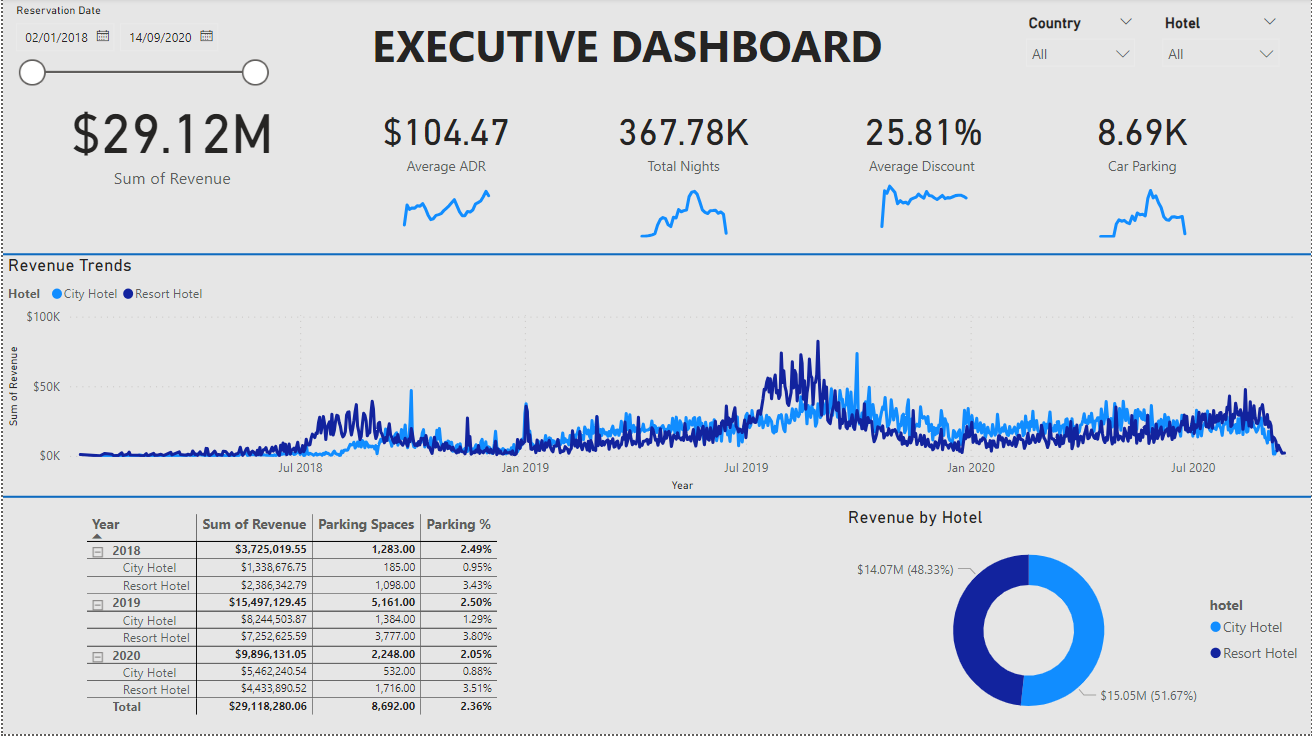

Layout of this report page (visuals, bound fields, positions):
{"tool":"powerbi","page":{"name":"Page 1","canvas":[1280,720],"ordinal":0},"visuals":[{"type":"shape","box":[0,0,1279.9,720],"z":0},{"type":"shape","box":[0,229.8,1279.9,41.6],"z":1000},{"type":"shape","box":[0,467,1279.9,41.6],"z":2000},{"type":"card","fields":{"Values":["Sum(Hotel_Data.Revenue)"]},"box":[39.1,62.3,253,149.1],"z":3000},{"type":"card","fields":{"Values":["Avg(Hotel_Data.adr)"]},"box":[309.3,62.3,248.1,149.1],"z":4000},{"type":"card","fields":{"Values":["Hotel_Data.Total Nights"]},"box":[541.5,62.3,248.1,149.1],"z":5000},{"type":"card","fields":{"Values":["Avg(Hotel_Data.Discount)"]},"box":[776.2,62.3,248.1,149.1],"z":6000},{"type":"lineChart","title":"Revenue Trends","fields":{"Y":["Sum(Hotel_Data.Revenue)"],"Category":["Hotel_Data.reservation_status_date.Variation.Date Hierarchy.Year","Hotel_Data.reservation_status_date.Variation.Date Hierarchy.Quarter","Hotel_Data.reservation_status_date.Variation.Date Hierarchy.Month","Hotel_Data.reservation_status_date.Variation.Date Hierarchy.Day"],"Series":["Hotel_Data.hotel"]},"box":[0,250.6,1279.9,237.1],"z":7000},{"type":"slicer","fields":{"Values":["Hotel_Data.country"]},"box":[990.2,11,127.1,79.5],"z":8000},{"type":"slicer","fields":{"Values":["Hotel_Data.hotel"]},"box":[1123.4,11,134.5,79.5],"z":9000},{"type":"lineChart","fields":{"Category":["Hotel_Data.reservation_status_date.Variation.Date Hierarchy.Year","Hotel_Data.reservation_status_date.Variation.Date Hierarchy.Quarter","Hotel_Data.reservation_status_date.Variation.Date Hierarchy.Month","Hotel_Data.reservation_status_date.Variation.Date Hierarchy.Day"],"Y":["Avg(Hotel_Data.adr)"]},"box":[377.7,166.2,112.5,73.3],"z":10000},{"type":"lineChart","fields":{"Category":["Hotel_Data.reservation_status_date.Variation.Date Hierarchy.Year","Hotel_Data.reservation_status_date.Variation.Date Hierarchy.Quarter","Hotel_Data.reservation_status_date.Variation.Date Hierarchy.Month","Hotel_Data.reservation_status_date.Variation.Date Hierarchy.Day"],"Y":["Hotel_Data.Total Nights"]},"box":[610,166.2,112.5,73.3],"z":11000},{"type":"lineChart","fields":{"Y":["Avg(Hotel_Data.Discount)"],"Category":["Hotel_Data.reservation_status_date.Variation.Date Hierarchy.Year","Hotel_Data.reservation_status_date.Variation.Date Hierarchy.Month","Hotel_Data.reservation_status_date.Variation.Date Hierarchy.Day"]},"box":[844.7,166.2,112.5,73.3],"z":12000},{"type":"card","fields":{"Values":["Sum(Hotel_Data.required_car_parking_spaces)"]},"box":[990.2,62.3,248.1,149.1],"z":13000},{"type":"lineChart","fields":{"Category":["Hotel_Data.reservation_status_date.Variation.Date Hierarchy.Year","Hotel_Data.reservation_status_date.Variation.Date Hierarchy.Month","Hotel_Data.reservation_status_date.Variation.Date Hierarchy.Day"],"Y":["Sum(Hotel_Data.required_car_parking_spaces)"]},"box":[1058.6,166.2,112.5,73.3],"z":14000},{"type":"donutChart","title":"Revenue by Hotel","fields":{"Y":["Sum(Hotel_Data.Revenue)"],"Category":["Hotel_Data.hotel"]},"box":[821.5,497.5,458.4,222.5],"z":15000},{"type":"pivotTable","fields":{"Rows":["Hotel_Data.reservation_status_date.Variation.Date Hierarchy.Year","Hotel_Data.hotel"],"Values":["Sum(Hotel_Data.Revenue)","Sum(Hotel_Data.required_car_parking_spaces)","Hotel_Data.Parking Pct"]},"box":[77,500,431.5,220],"z":16000},{"type":"slicer","fields":{"Values":["Hotel_Data.reservation_status_date"]},"box":[0,0,267.7,102.7],"z":17000},{"type":"textbox","box":[355.7,11,517.1,79.5],"z":18000}]}

Visuals, with their boxes in screenshot pixels (x1, y1, x2, y2), scaled from the page's 1280x720 canvas onto the 1312x737 screenshot:
shape: x1=0, y1=0, x2=1311, y2=736
shape: x1=0, y1=235, x2=1311, y2=278
shape: x1=0, y1=478, x2=1311, y2=521
card - Sum(Hotel_Data.Revenue): x1=40, y1=64, x2=299, y2=216
card - Avg(Hotel_Data.adr): x1=317, y1=64, x2=571, y2=216
card - Hotel_Data.Total Nights: x1=555, y1=64, x2=809, y2=216
card - Avg(Hotel_Data.Discount): x1=796, y1=64, x2=1050, y2=216
"Revenue Trends" lineChart: x1=0, y1=257, x2=1311, y2=499
slicer - Hotel_Data.country: x1=1015, y1=11, x2=1145, y2=93
slicer - Hotel_Data.hotel: x1=1151, y1=11, x2=1289, y2=93
lineChart - Hotel_Data.reservation_status_date.Variation.Date Hierarchy.Year x Hotel_Data.reservation_status_date.Variation.Date Hierarchy.Quarter: x1=387, y1=170, x2=502, y2=245
lineChart - Hotel_Data.reservation_status_date.Variation.Date Hierarchy.Year x Hotel_Data.reservation_status_date.Variation.Date Hierarchy.Quarter: x1=625, y1=170, x2=741, y2=245
lineChart - Avg(Hotel_Data.Discount) x Hotel_Data.reservation_status_date.Variation.Date Hierarchy.Year: x1=866, y1=170, x2=981, y2=245
card - Sum(Hotel_Data.required_car_parking_spaces): x1=1015, y1=64, x2=1269, y2=216
lineChart - Hotel_Data.reservation_status_date.Variation.Date Hierarchy.Year x Hotel_Data.reservation_status_date.Variation.Date Hierarchy.Month: x1=1085, y1=170, x2=1200, y2=245
"Revenue by Hotel" donutChart: x1=842, y1=509, x2=1311, y2=736
pivotTable - Hotel_Data.reservation_status_date.Variation.Date Hierarchy.Year x Hotel_Data.hotel: x1=79, y1=512, x2=521, y2=736
slicer - Hotel_Data.reservation_status_date: x1=0, y1=0, x2=274, y2=105
textbox: x1=365, y1=11, x2=895, y2=93
